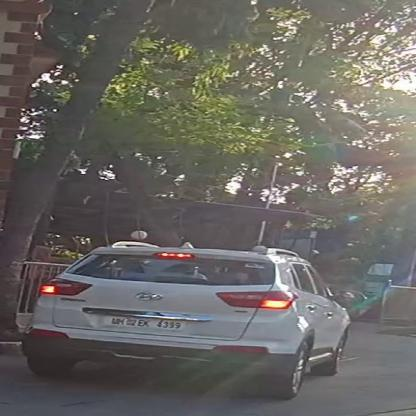license_plate: (102, 312, 190, 332)
